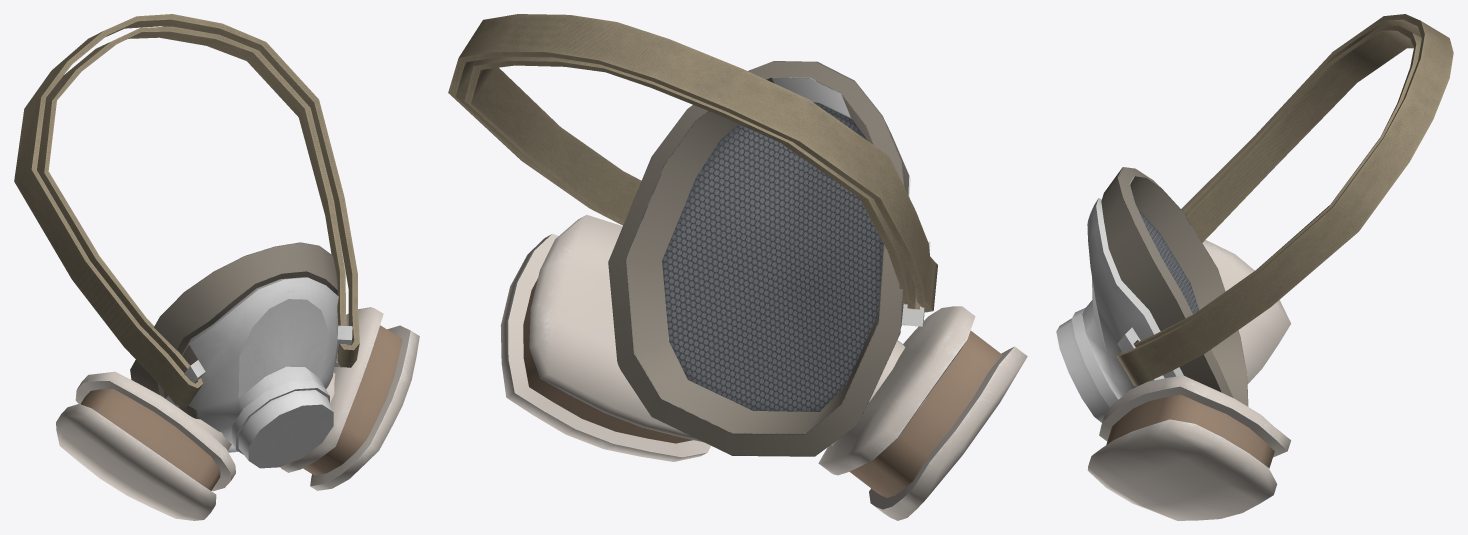
File: double_canister_gas_mask.fbx
3 renders of one model, left to right at view 1: azimuth 30°, elevation 25°; view 2: azimuth 150°, elevation 25°; view 3: azimuth 270°, elevation 25°, orthographic. The views are drawn at different scales.
Parts seen in each view (by area): view 1: double_canister_gas_mask_tank, double_canister_gas_mask_rubber, double_canister_gas_mask, double_canister_gas_mask_seal; view 2: double_canister_gas_mask, double_canister_gas_mask_tank, double_canister_gas_mask_rubber; view 3: double_canister_gas_mask_rubber, double_canister_gas_mask_tank, double_canister_gas_mask, double_canister_gas_mask_seal.
Boxes of the visible parts, left/top/right/bottom form: double_canister_gas_mask_tank: left=56, top=307, right=419, bottom=520; double_canister_gas_mask_rubber: left=14, top=14, right=359, bottom=408; double_canister_gas_mask: left=130, top=242, right=352, bottom=454; double_canister_gas_mask_seal: left=238, top=390, right=333, bottom=468; double_canister_gas_mask: left=608, top=61, right=930, bottom=456; double_canister_gas_mask_tank: left=500, top=214, right=1027, bottom=520; double_canister_gas_mask_rubber: left=448, top=14, right=937, bottom=312; double_canister_gas_mask_rubber: left=1116, top=14, right=1453, bottom=385; double_canister_gas_mask_tank: left=1087, top=240, right=1290, bottom=520; double_canister_gas_mask: left=1071, top=167, right=1248, bottom=407; double_canister_gas_mask_seal: left=1056, top=318, right=1109, bottom=422.
Bounding box in the file's own units: 21.98 × 25.36 × 20.41.
4 materials, 4 textured.
